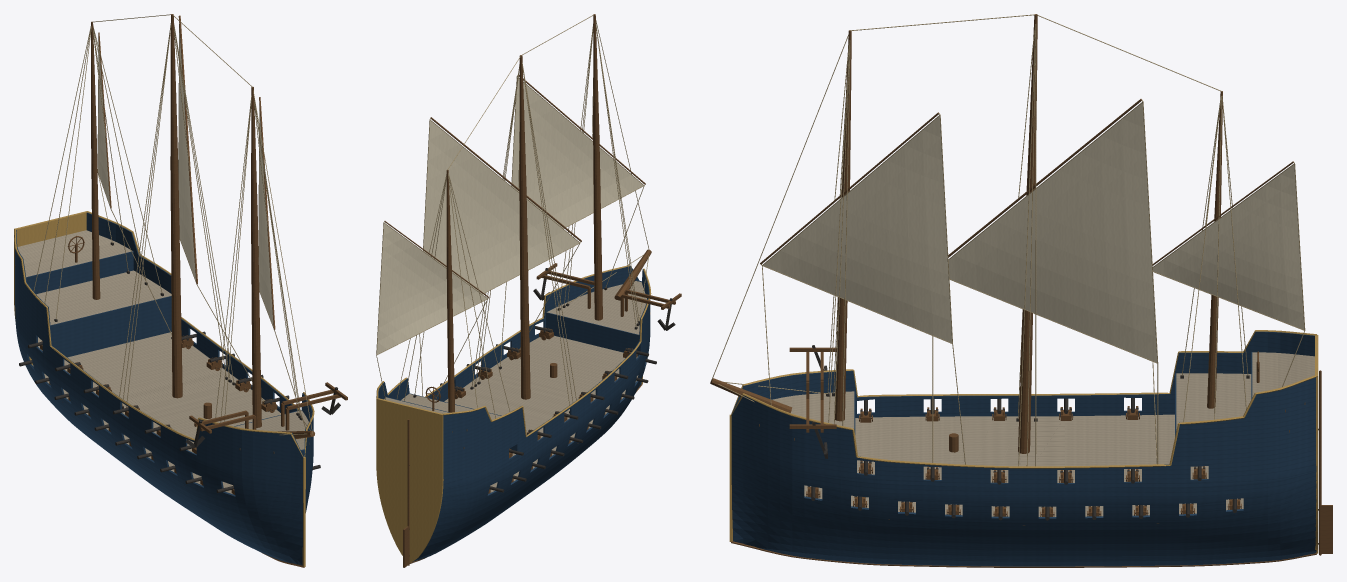
3 renders of one model, left to right at view 1: azimuth 30°, elevation 25°; view 2: azimuth 150°, elevation 25°; view 3: azimuth 270°, elevation 25°, orthographic. The views are drawn at different scales.
Visible parts, largest first — view 1: lod1_hull_shell_starboard, lod1_main_deck, lod1_castle_bulkhead_1_1, lod1_hull_shell_port, lod1_castle_deck_1, lod1_main, lod1_castle_deck_0, lod1_fore, lod1_castle_bulkhead_0_1, lod1_main_lateen_00, lod1_mizzen, lod1_stern_closure (+16 smaller); view 2: lod1_hull_shell_starboard, lod1_main_lateen_00, lod1_fore_lateen_00, lod1_stern_closure, lod1_main_deck, lod1_mizzen_lateen_00, lod1_hull_shell_port, lod1_main, lod1_castle_deck_2, lod1_fore, lod1_castle_bulkhead_2_minus_1, lod1_mizzen (+9 smaller); view 3: lod1_hull_shell_port, lod1_main_lateen_00, lod1_fore_lateen_00, lod1_main_deck, lod1_mizzen_lateen_00, lod1_hull_shell_starboard, lod1_castle_deck_1, lod1_main, lod1_fore, lod1_castle_deck_0, lod1_gunwale_port, lod1_mizzen (+5 smaller).
Part boxes in pixels (x1,y1,x2,y2): lod1_hull_shell_starboard: (15,230,303,565); lod1_main_deck: (38,332,280,452); lod1_castle_bulkhead_1_1: (50,296,171,357); lod1_hull_shell_port: (86,212,313,512); lod1_castle_deck_1: (36,270,171,325); lod1_main: (170,14,182,398); lod1_castle_deck_0: (17,230,132,277); lod1_fore: (251,87,261,427); lod1_castle_bulkhead_0_1: (26,251,133,294); lod1_main_lateen_00: (178,32,195,280); lod1_mizzen: (91,21,100,299); lod1_stern_closure: (14,211,86,364); lod1_hull_shell_starboard: (412,269,650,561); lod1_main_lateen_00: (423,120,579,293); lod1_fore_lateen_00: (512,77,643,228); lod1_stern_closure: (376,398,443,562); lod1_main_deck: (444,335,637,456); lod1_mizzen_lateen_00: (377,223,486,354); lod1_hull_shell_port: (378,266,639,401); lod1_main: (519,55,530,399); lod1_castle_deck_2: (547,281,647,334); lod1_fore: (593,14,602,320); lod1_castle_bulkhead_2_minus_1: (546,312,639,355); lod1_mizzen: (446,169,454,412); lod1_hull_shell_port: (731,377,1316,566); lod1_main_lateen_00: (948,103,1157,362); lod1_fore_lateen_00: (763,116,952,342); lod1_main_deck: (855,414,1208,482); lod1_mizzen_lateen_00: (1153,164,1304,329); lod1_hull_shell_starboard: (731,331,1314,417); lod1_castle_deck_1: (1176,373,1251,430); lod1_main: (1018,14,1037,453); lod1_fore: (835,30,851,421); lod1_castle_deck_0: (1252,352,1314,397); lod1_gunwale_port: (731,375,1317,468); lod1_mizzen: (1207,91,1222,408).
Size of the model in its own units: 11.58 by 34.22 by 34.88.
7 materials, 7 textured.
